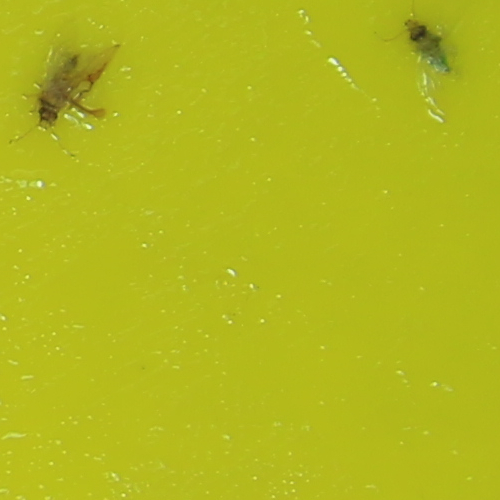Glycaspis: (36, 53, 86, 126), (404, 18, 451, 74)
